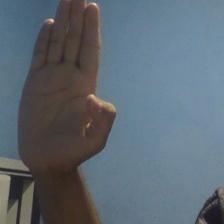B: (13, 1, 120, 175)
